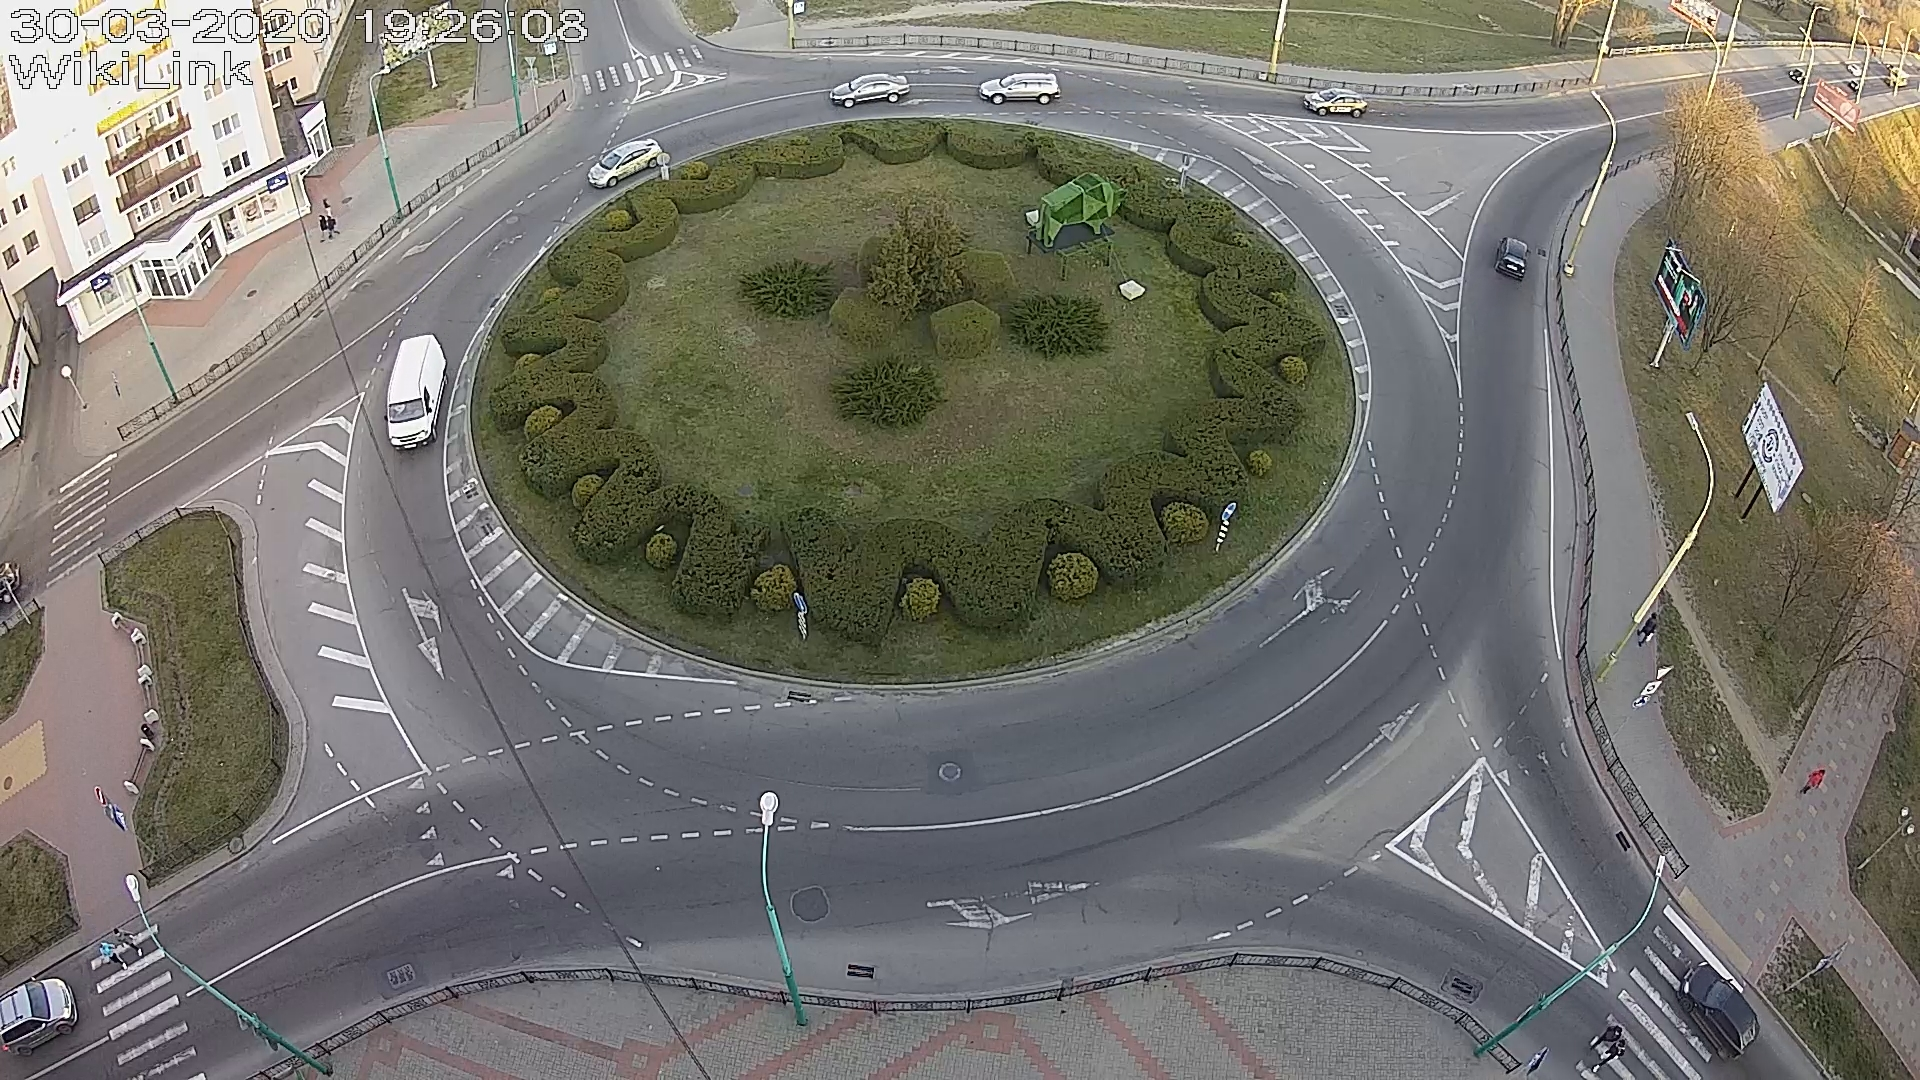car: (1679, 961, 1760, 1063), (384, 334, 448, 451), (1, 976, 79, 1058), (587, 138, 663, 189), (829, 73, 910, 108), (978, 73, 1062, 104), (1303, 87, 1367, 117), (1494, 235, 1532, 282)
